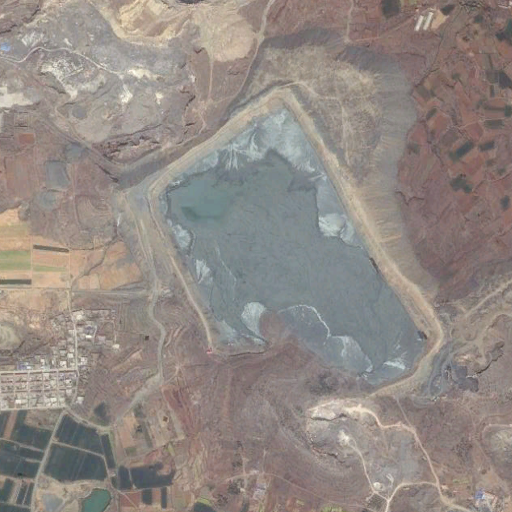tp: (141, 83, 442, 401)
